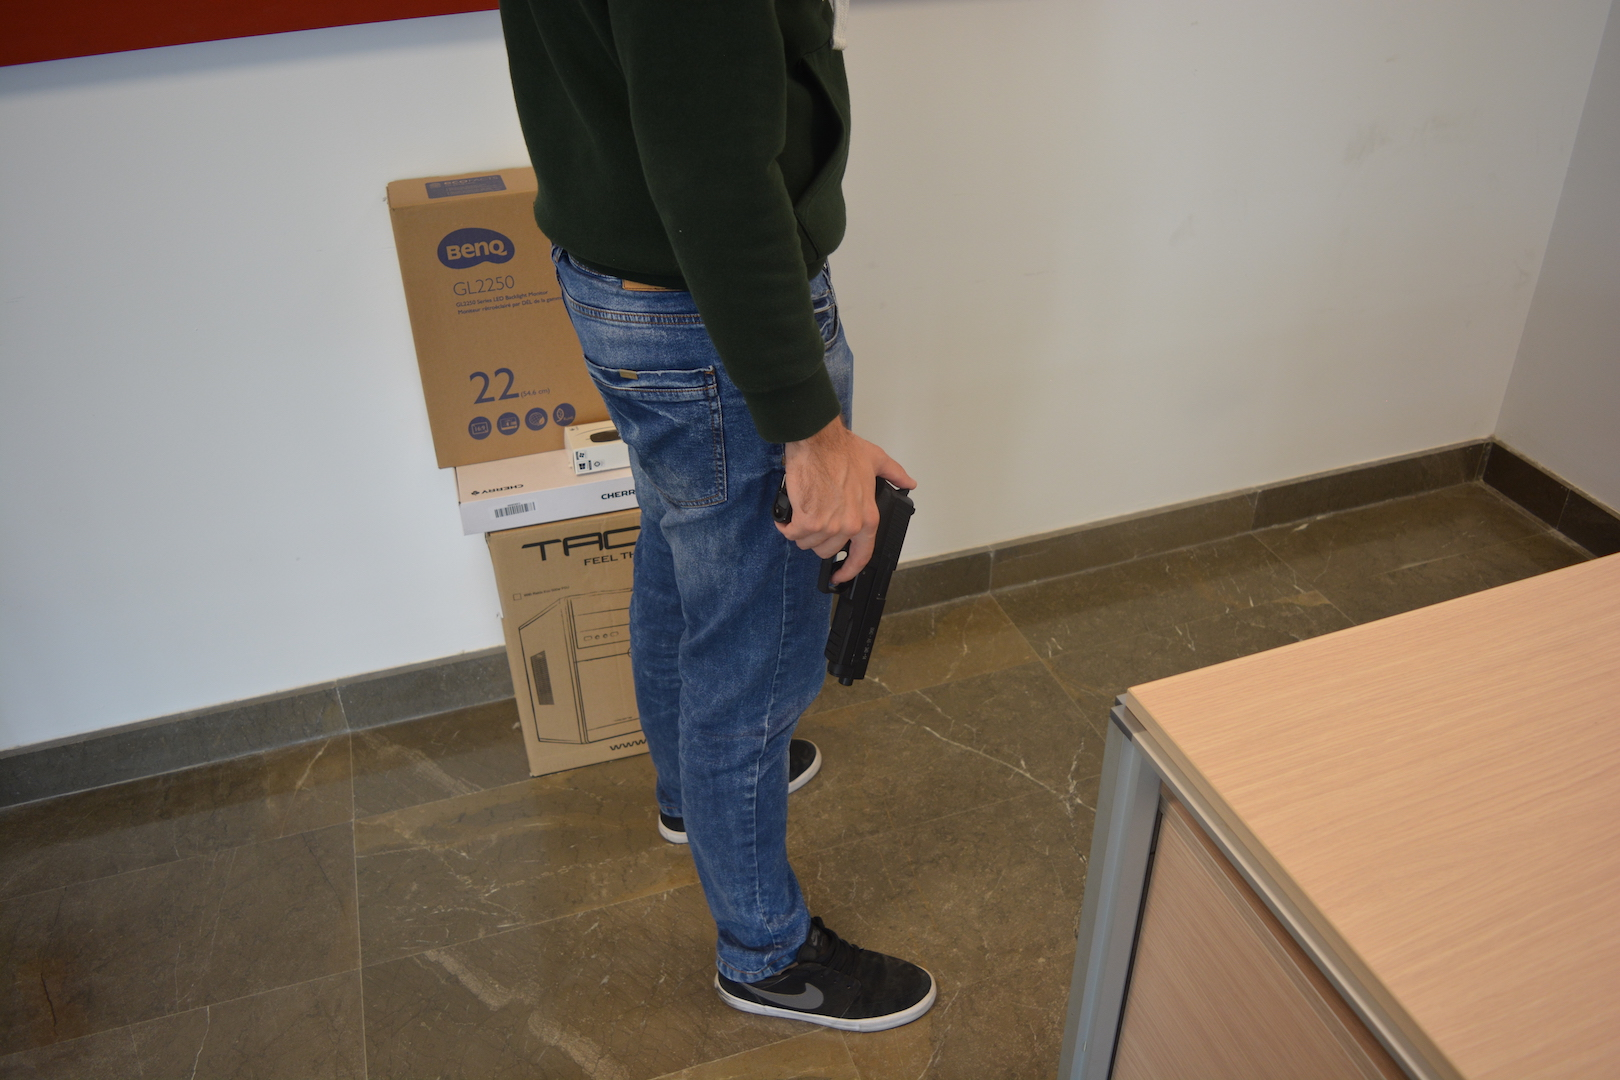pistol: (773, 466, 917, 686)
